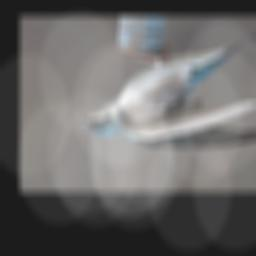Swallow: (77, 30, 256, 151)
